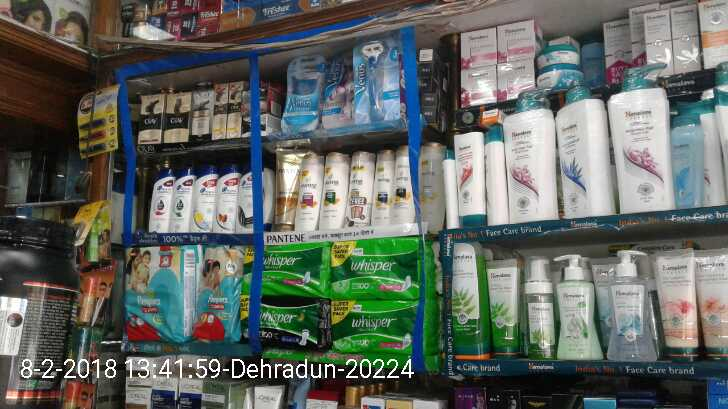venus: (356, 36, 395, 120), (284, 55, 323, 129), (327, 64, 356, 123)
